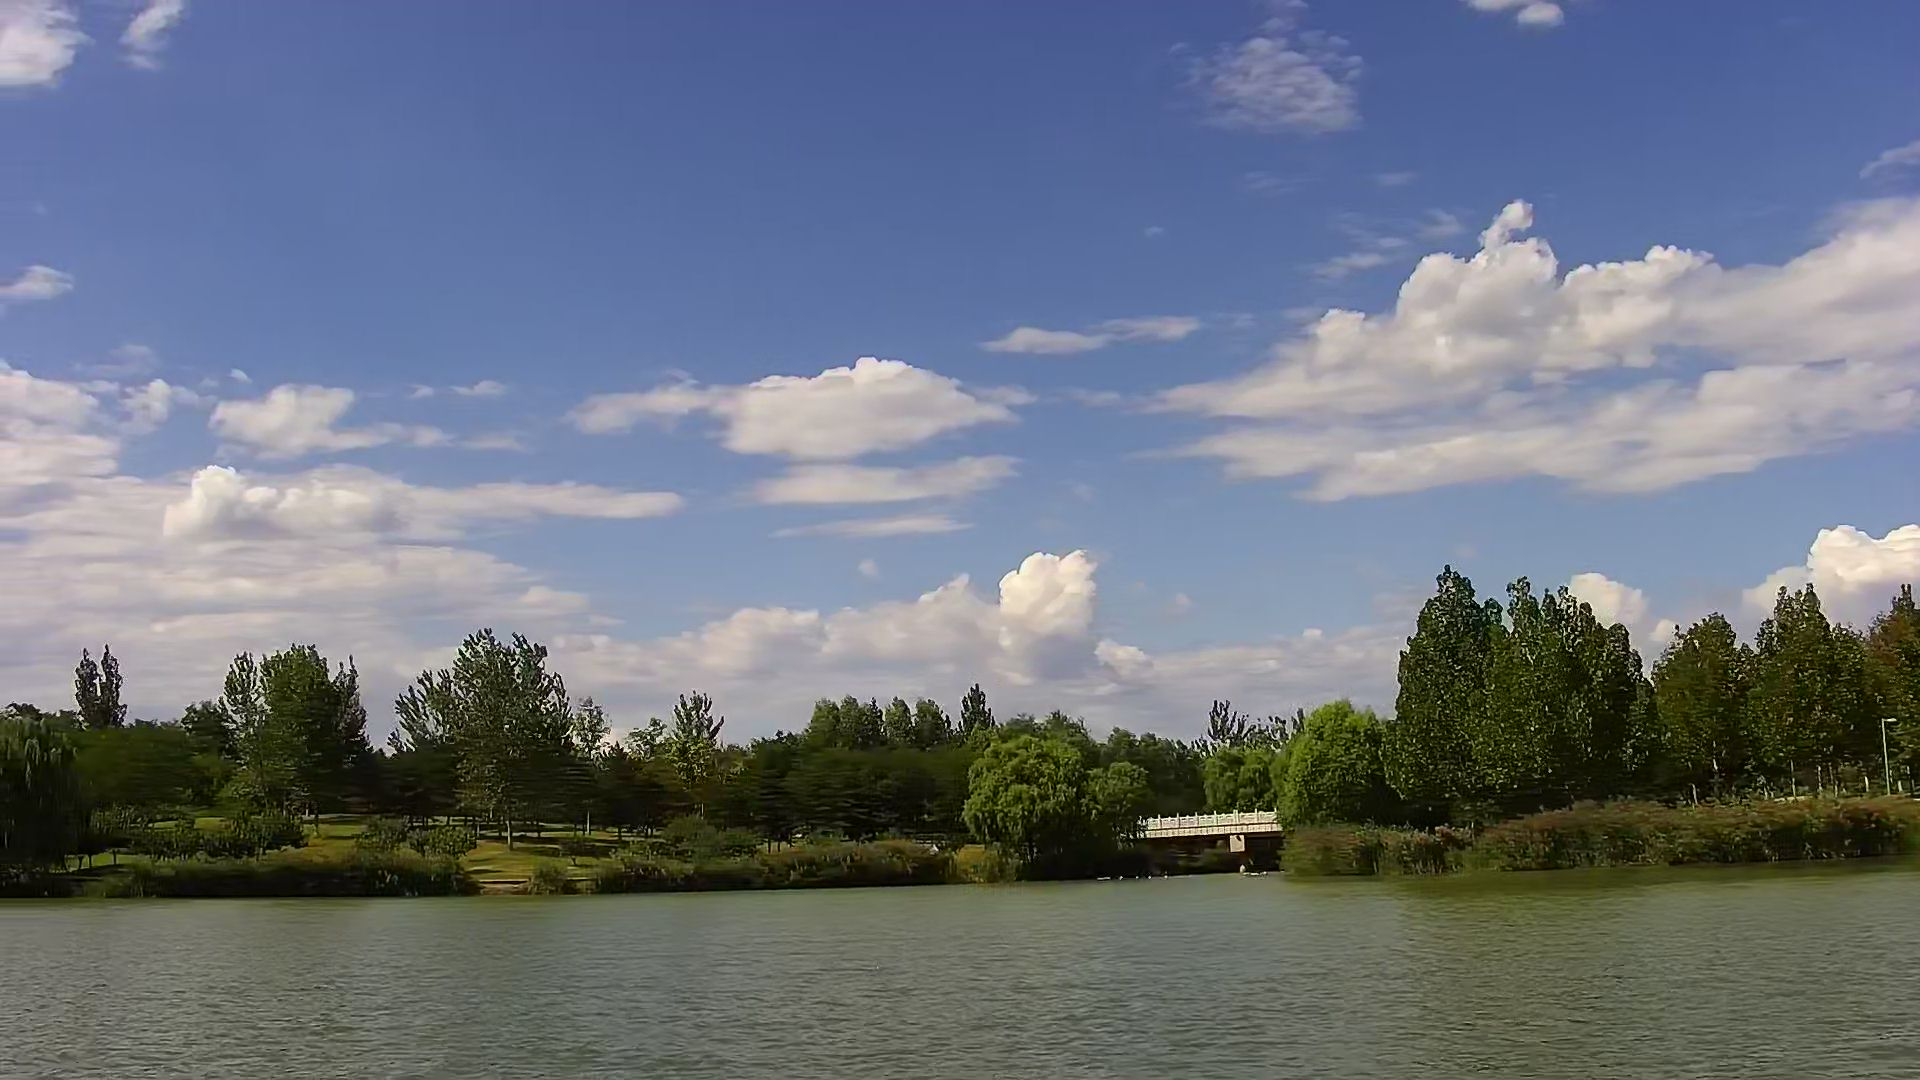bridge: (1146, 810, 1282, 868)
